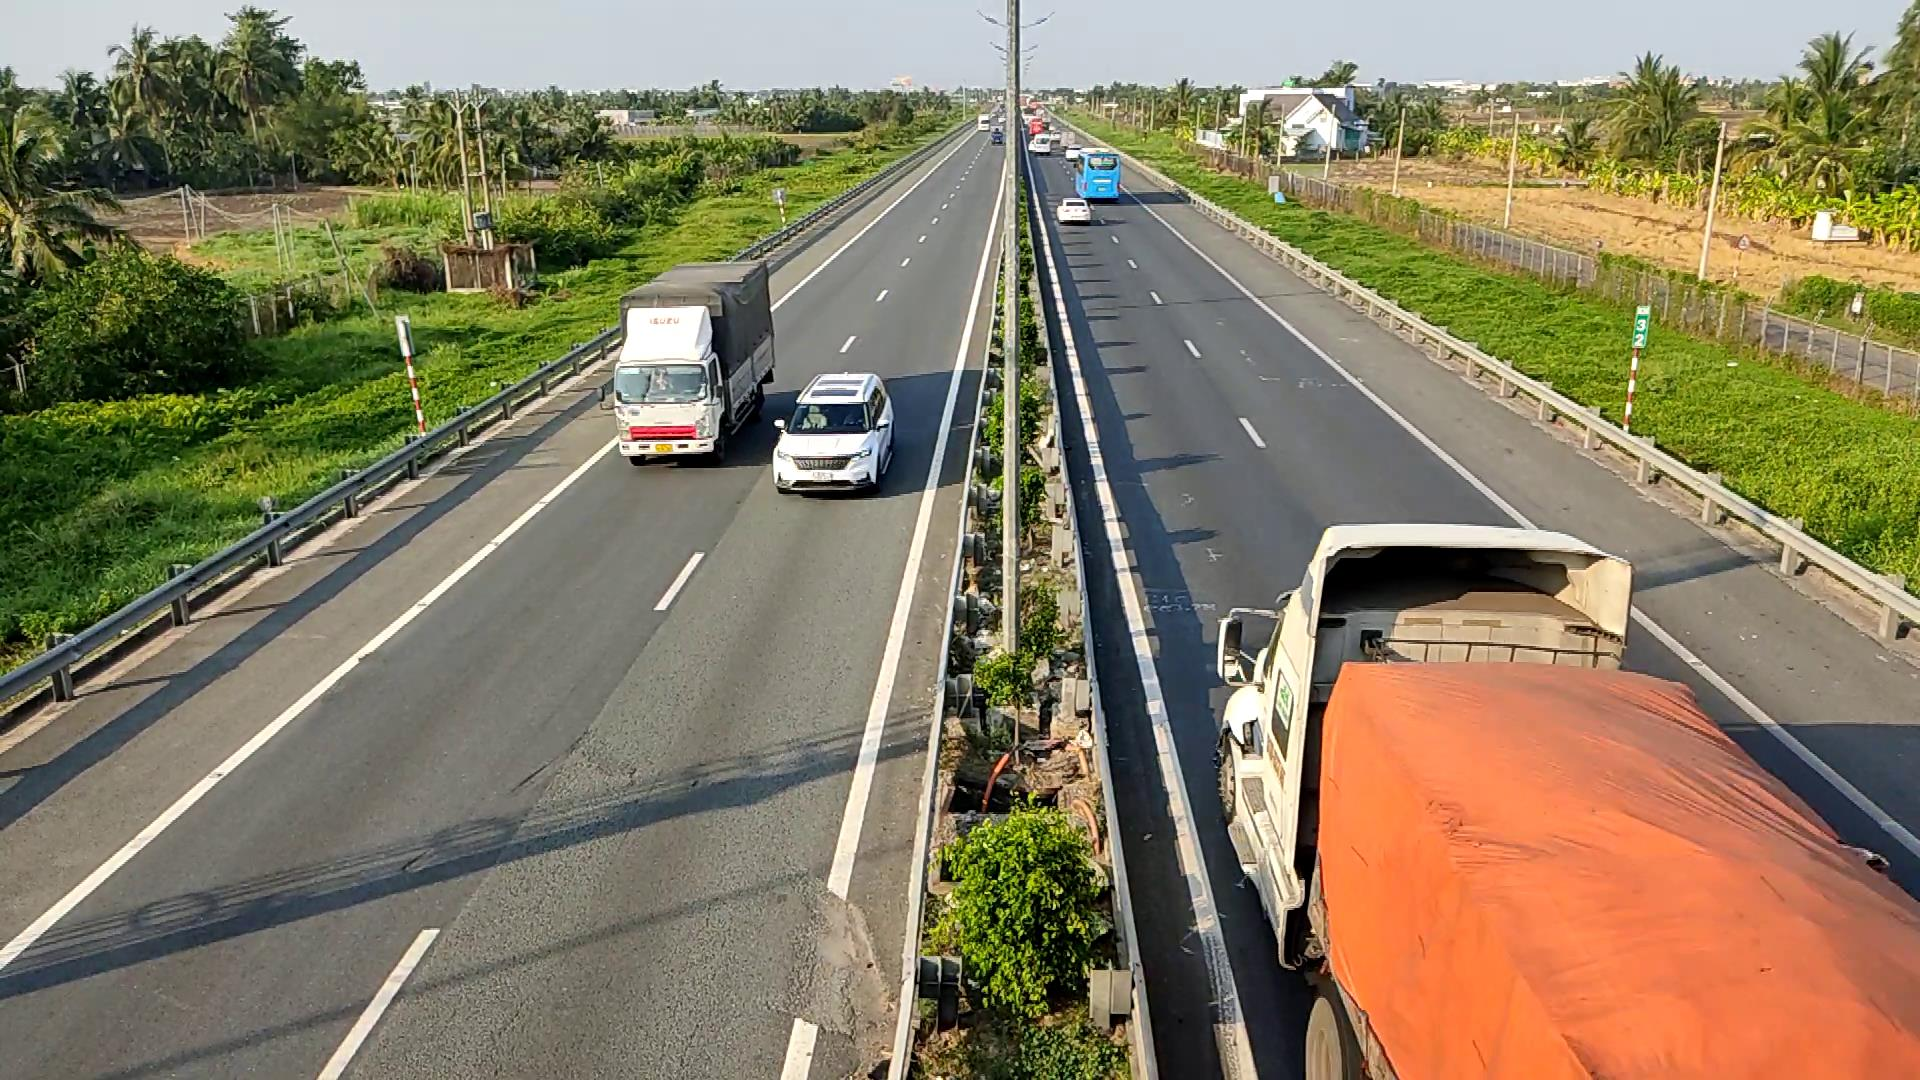car: (770, 371, 897, 495), (1056, 196, 1092, 223)
truck: (1211, 524, 1917, 1065), (611, 258, 777, 465)
